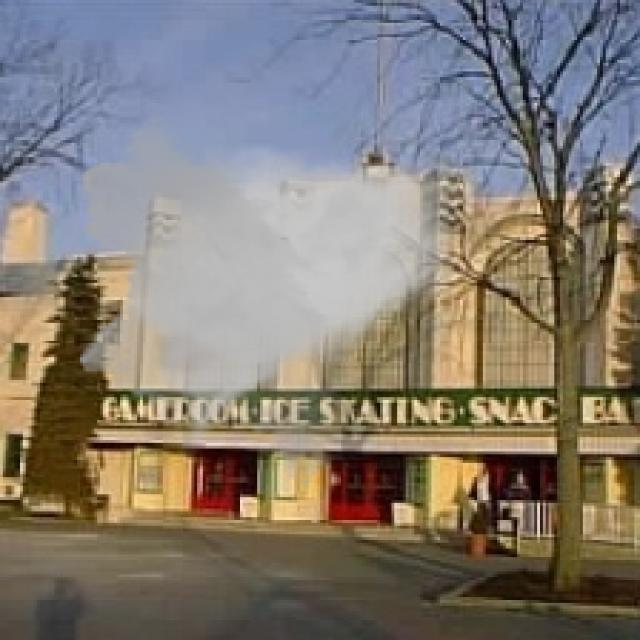smoke: (69, 114, 474, 489)
